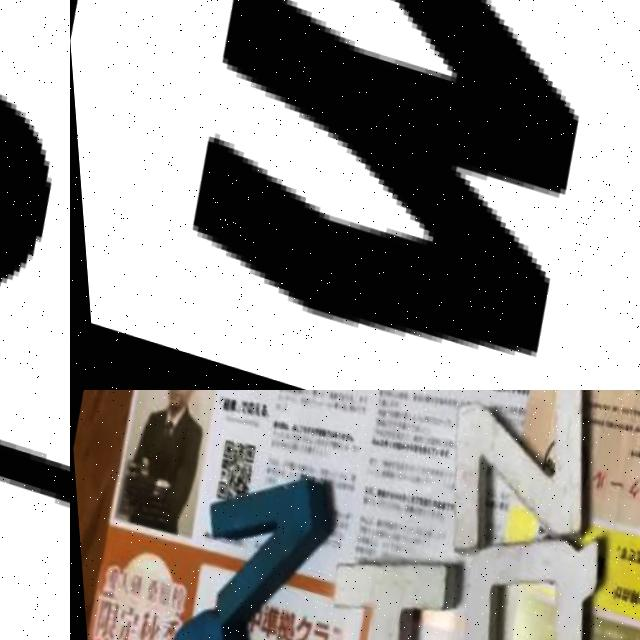5: (0, 390, 70, 640)
H: (289, 518, 468, 640)
P: (129, 592, 287, 640)
Q: (421, 478, 621, 640)
U: (0, 0, 70, 340)
V: (177, 420, 348, 640)
W: (123, 0, 640, 390)
Z: (418, 390, 615, 559)
